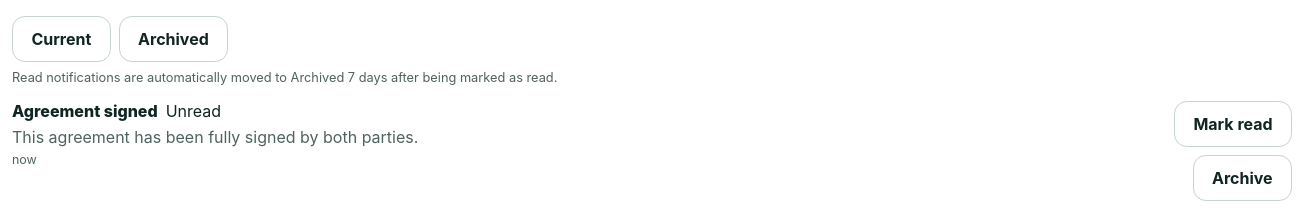
Test: NotificationCenter › Agreement page ordering + notification retention (mandatory command): 7-day auto-archive notice › marking read keeps the notification in Current — it does not immediately archive or remove it from view
What coordinates should you click on to do the following:
click the button "Mark read"
I would click on:
 (1233, 124)
Its box is [1174,101,1292,147].
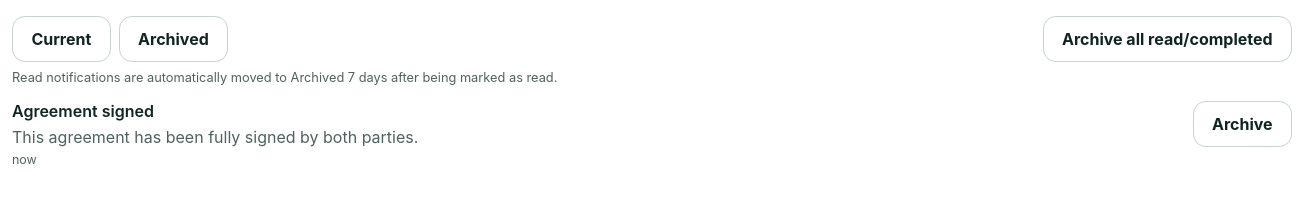
Expected: the text "Agreement signed" is shown, [12,101,154,121]
Expected: the button "Mark read" is gone
